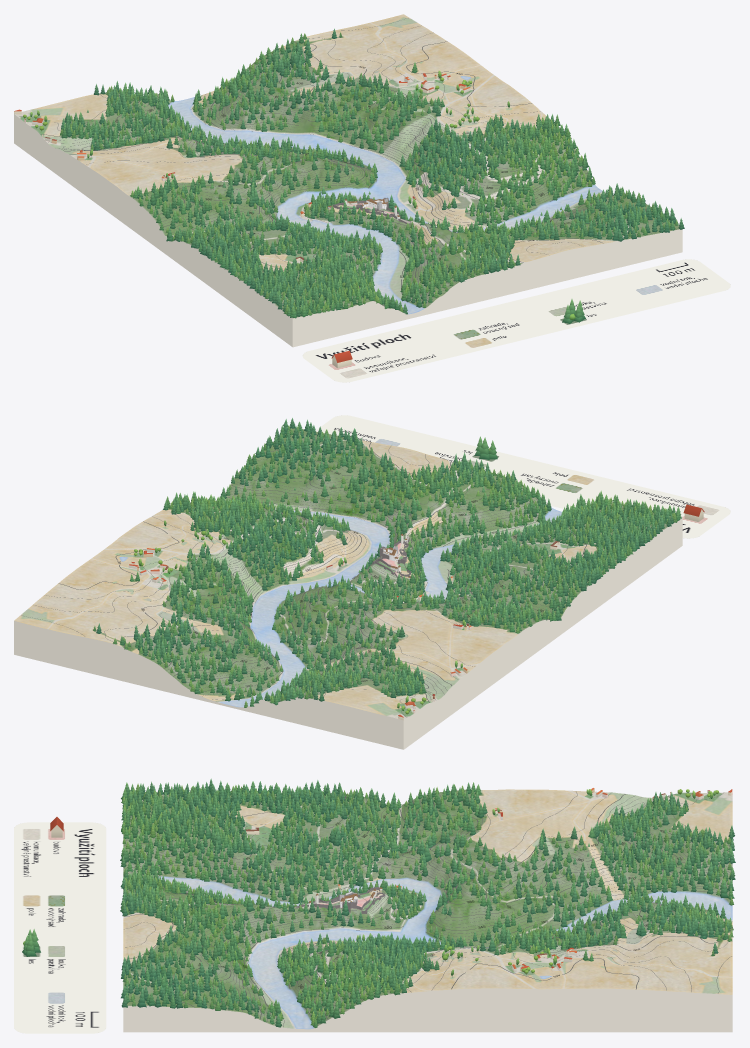
Rendered from Zvikov_base_sada23.glb.
3 renders of one model, top to bottom at view 1: azimuth 30°, elevation 25°; view 2: azimuth 150°, elevation 25°; view 3: azimuth 270°, elevation 25°, orthographic. The views are drawn at different scales.
Parts seen in each view (by area): view 1: DMR_1953, Zvikov_stromy_body_SMO5, legenda_panel, vrstevnice, Zvikov_SMO5_budovy, Node0, legenda_objekty; view 2: DMR_1953, Zvikov_stromy_body_SMO5, legenda_panel, vrstevnice, Zvikov_SMO5_budovy, Node0, legenda_objekty; view 3: DMR_1953, Zvikov_stromy_body_SMO5, legenda_panel, vrstevnice, Node0, Zvikov_SMO5_budovy, legenda_objekty.
Boxes of the visible parts, <box> form: DMR_1953: <box>14,14,682,347</box>; Zvikov_stromy_body_SMO5: <box>23,28,684,318</box>; legenda_panel: <box>302,259,730,382</box>; vrstevnice: <box>19,18,652,310</box>; Zvikov_SMO5_budovy: <box>14,73,470,262</box>; Node0: <box>327,197,410,224</box>; legenda_objekty: <box>331,299,585,368</box>; DMR_1953: <box>14,428,682,749</box>; Zvikov_stromy_body_SMO5: <box>93,418,681,714</box>; legenda_panel: <box>315,415,730,538</box>; vrstevnice: <box>21,436,623,717</box>; Zvikov_SMO5_budovy: <box>128,541,559,720</box>; Node0: <box>372,533,410,579</box>; legenda_objekty: <box>474,436,704,521</box>; DMR_1953: <box>123,789,732,1032</box>; Zvikov_stromy_body_SMO5: <box>120,778,735,1027</box>; legenda_panel: <box>14,822,106,1033</box>; vrstevnice: <box>124,791,731,1026</box>; Node0: <box>295,887,385,913</box>; Zvikov_SMO5_budovy: <box>245,788,732,971</box>; legenda_objekty: <box>22,817,63,956</box>.
Size of the model in its own units: 1491 by 180 by 2151.
7 materials, 3 textured.
